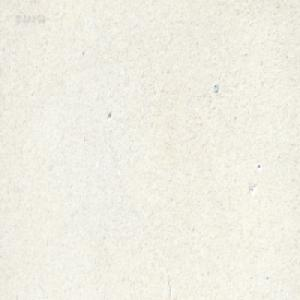Washer: (212, 82, 218, 92)
